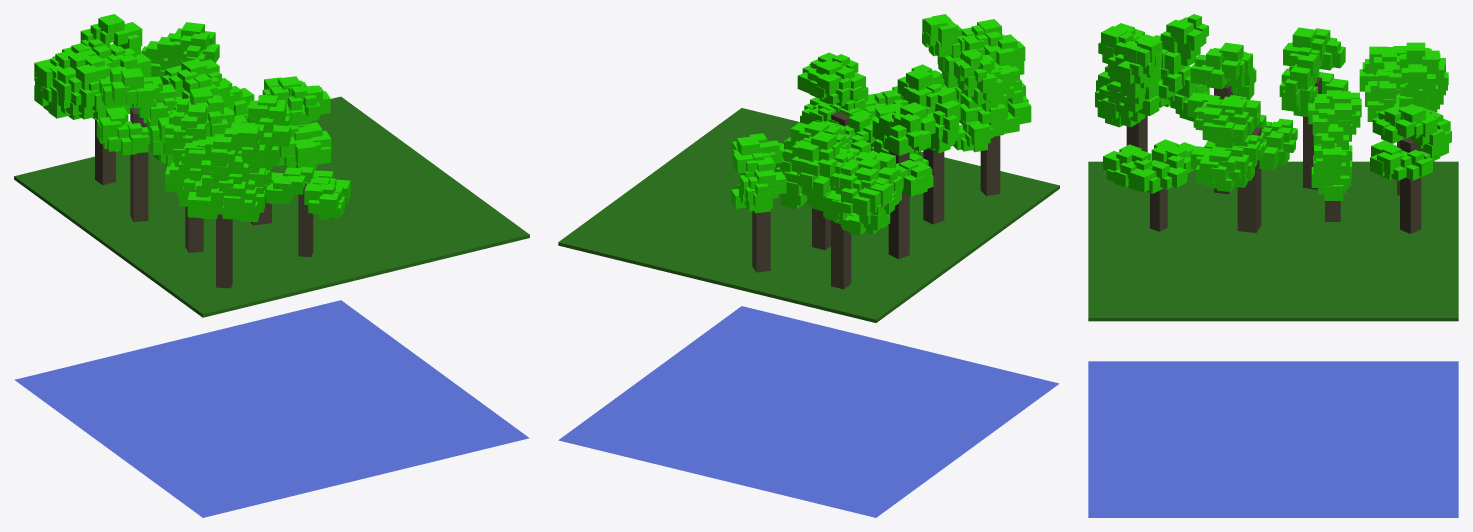
The model's file is 24__tile.fbx.
3 views of the same model, side by side, from view 1: azimuth 30°, elevation 25°; view 2: azimuth 150°, elevation 25°; view 3: azimuth 270°, elevation 25° (orthographic). The views are drawn at different scales.
Visible parts, largest first — view 1: 24__tile; view 2: 24__tile; view 3: 24__tile.
Part boxes in pixels (x1,y1,x2,y2): 24__tile: (14, 14, 529, 517); 24__tile: (558, 14, 1059, 517); 24__tile: (1088, 14, 1458, 517).
Bounding box in the file's own units: 200 × 218 × 200.
